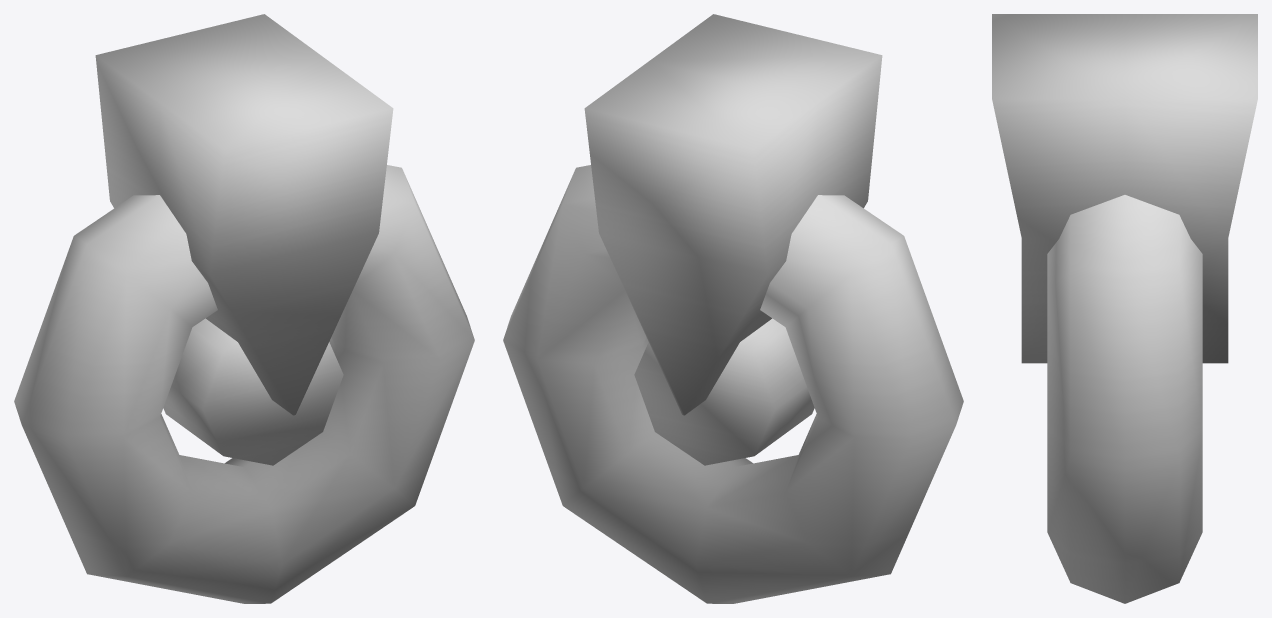
File: stone_pommel_178.glb
The picture shows the model from 3 angles, left to right: view 1: azimuth 30°, elevation 25°; view 2: azimuth 150°, elevation 25°; view 3: azimuth 270°, elevation 25°; orthographic projection. The views are drawn at different scales.
Visible parts, largest first — view 1: stone_pommel.178; view 2: stone_pommel.178; view 3: stone_pommel.178.
Boxes of the visible parts, <box> form: stone_pommel.178: <box>14,14,474,603</box>; stone_pommel.178: <box>503,14,963,603</box>; stone_pommel.178: <box>992,14,1257,603</box>.
Size of the model in its own units: 2.32 by 2.6 by 1.16.
1 material, 1 textured.
